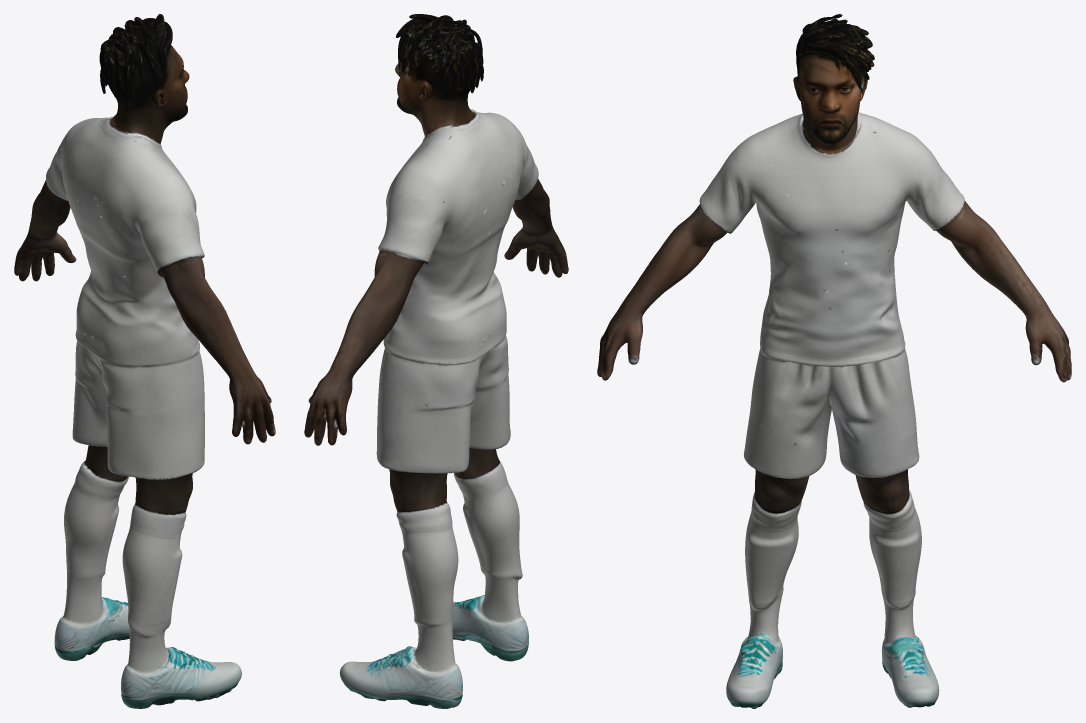
Rendered from tripo_convert_73a36d06-35cc-45bd-baab-5307b26ae4ee.fbx.
The picture shows the model from 3 angles, left to right: view 1: azimuth 30°, elevation 25°; view 2: azimuth 150°, elevation 25°; view 3: azimuth 270°, elevation 25°; orthographic projection. The views are drawn at different scales.
Parts seen in each view (by area): view 1: tripo_node_73a36d06; view 2: tripo_node_73a36d06; view 3: tripo_node_73a36d06.
Part boxes in pixels (box(x1,y1,x2,y2)): tripo_node_73a36d06: box(14, 14, 275, 708); tripo_node_73a36d06: box(304, 14, 568, 708); tripo_node_73a36d06: box(597, 14, 1071, 708).
Size of the model in its own units: 0.179 by 1 by 0.6394.
